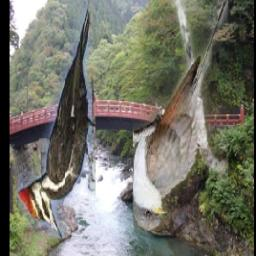Cuckoo: (133, 0, 228, 232)
Woodpecker: (17, 0, 95, 239)
